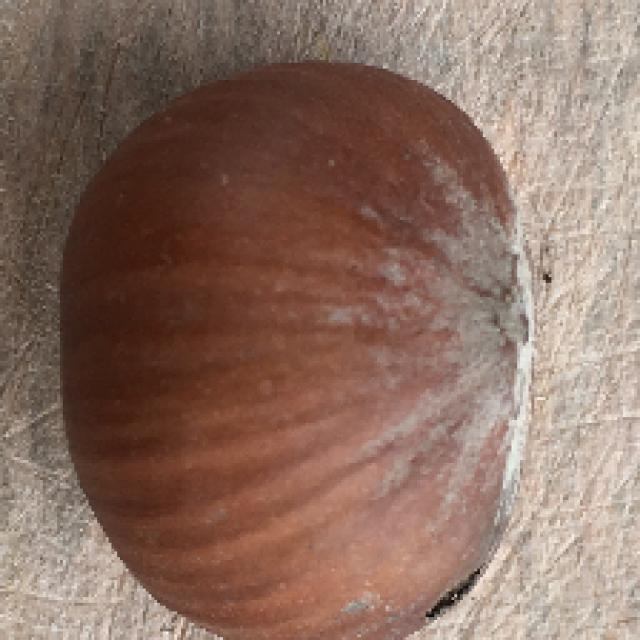damagedHazelnut: (57, 60, 537, 634)
